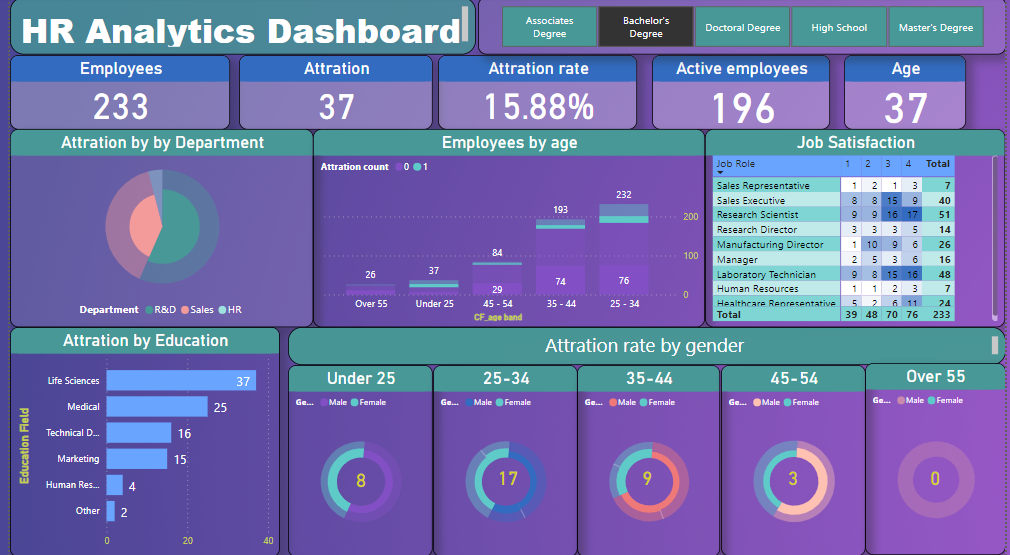

The dashboard page shown, as its layout file describes it:
{"tool":"powerbi","page":{"name":"Page 1","canvas":[1280,720],"ordinal":0},"visuals":[{"type":"card","title":"Employees","fields":{"Values":["Sum(Sheet1.Employee Count)"]},"box":[0,74,283.4,95.7],"z":0},{"type":"card","title":"Attration","fields":{"Values":["Sum(Sheet1.Attration count)"]},"box":[294.3,74,249.1,95.7],"z":1000},{"type":"card","title":"Attration rate","fields":{"Values":["Sheet1.Attration rate"]},"box":[550.6,74,256.4,95.7],"z":2000},{"type":"card","title":"Active employees","fields":{"Values":["Sheet1.Active employees"]},"box":[825,74,229.3,95.7],"z":3000},{"type":"card","title":"Age","fields":{"Values":["Avg(Sheet1.Age)"]},"box":[1072.4,74,157.1,95.7],"z":4000},{"type":"pieChart","fields":{"Y":["Sum(Sheet1.Attration count)"],"Category":["Sheet1.Department"]},"box":[0,169.7,390,254.6],"z":5000},{"type":"columnChart","title":"Employees by age","fields":{"Category":["Sheet1.CF_age band"],"Y":["Sum(Sheet1.Employee Count)"],"Series":["Sheet1.Attration count"]},"box":[390,169.7,503.7,254.6],"z":6000},{"type":"pivotTable","title":"Job Satisfaction","fields":{"Rows":["Sheet1.Job Role"],"Columns":["Sheet1.Job Satisfaction"],"Values":["Sum(Sheet1.Employee Count)"]},"box":[893.7,169.7,386.3,254.6],"z":7000},{"type":"barChart","title":"Attration by Education","fields":{"Category":["Sheet1.Education Field"],"Y":["Sum(Sheet1.Attration count)"]},"box":[0,424.3,346.6,296.1],"z":8000},{"type":"donutChart","title":"Under 25","fields":{"Category":["Sheet1.Gender"],"Y":["Sum(Sheet1.Attration count)"],"Series":["Sheet1.CF_age band"]},"box":[357.5,473,186,247.3],"z":9000},{"type":"textbox","box":[357.5,424.3,922.5,48.7],"z":10000},{"type":"donutChart","title":" 25-34","fields":{"Category":["Sheet1.Gender"],"Y":["Sum(Sheet1.Attration count)"],"Series":["Sheet1.CF_age band"]},"box":[543.4,473,186,247.3],"z":11000},{"type":"donutChart","title":"35-44","fields":{"Category":["Sheet1.Gender"],"Y":["Sum(Sheet1.Attration count)"],"Series":["Sheet1.CF_age band"]},"box":[729.4,473,184.1,247.3],"z":12000},{"type":"donutChart","title":"45-54","fields":{"Category":["Sheet1.Gender"],"Y":["Sum(Sheet1.Attration count)"],"Series":["Sheet1.CF_age band"]},"box":[913.5,473,186,245.5],"z":13000},{"type":"donutChart","title":"Over 55","fields":{"Category":["Sheet1.Gender"],"Y":["Sum(Sheet1.Attration count)"],"Series":["Sheet1.CF_age band"]},"box":[1099.5,471.2,180.5,247.3],"z":14000},{"type":"card","fields":{"Values":["Sum(Sheet1.Attration count)"]},"box":[422.7,596,56,48],"z":15000},{"type":"card","fields":{"Values":["Sum(Sheet1.Attration count)"]},"box":[600,586.7,78.7,65.3],"z":16000},{"type":"card","fields":{"Values":["Sum(Sheet1.Attration count)"]},"box":[778.7,586.7,80,65.3],"z":17000},{"type":"card","fields":{"Values":["Sum(Sheet1.Attration count)"]},"box":[966.7,586.7,80,65.3],"z":18000},{"type":"card","fields":{"Values":["Sum(Sheet1.Attration count)"]},"box":[1149.3,586.7,80,65.3],"z":19000},{"type":"textbox","box":[0,0,599.4,74],"z":20000},{"type":"slicer","fields":{"Values":["Sheet1.Education"]},"box":[601.2,0,678.8,74],"z":20001}]}

Visuals, with their boxes in screenshot pixels (x1, y1, x2, y2), scaled from the page's 1280x720 canvas onto the 1010x555 screenshot:
"Employees" card: l=0, t=57, r=224, b=131
"Attration" card: l=232, t=57, r=429, b=131
"Attration rate" card: l=434, t=57, r=637, b=131
"Active employees" card: l=651, t=57, r=832, b=131
"Age" card: l=846, t=57, r=970, b=131
pieChart - Sum(Sheet1.Attration count) x Sheet1.Department: l=0, t=131, r=308, b=327
"Employees by age" columnChart: l=308, t=131, r=705, b=327
"Job Satisfaction" pivotTable: l=705, t=131, r=1009, b=327
"Attration by Education" barChart: l=0, t=327, r=273, b=554
"Under 25" donutChart: l=282, t=365, r=429, b=554
textbox: l=282, t=327, r=1009, b=365
" 25-34" donutChart: l=429, t=365, r=576, b=554
"35-44" donutChart: l=576, t=365, r=721, b=554
"45-54" donutChart: l=721, t=365, r=868, b=554
"Over 55" donutChart: l=868, t=363, r=1009, b=554
card - Sum(Sheet1.Attration count): l=334, t=459, r=378, b=496
card - Sum(Sheet1.Attration count): l=473, t=452, r=536, b=503
card - Sum(Sheet1.Attration count): l=614, t=452, r=678, b=503
card - Sum(Sheet1.Attration count): l=763, t=452, r=826, b=503
card - Sum(Sheet1.Attration count): l=907, t=452, r=970, b=503
textbox: l=0, t=0, r=473, b=57
slicer - Sheet1.Education: l=474, t=0, r=1009, b=57
